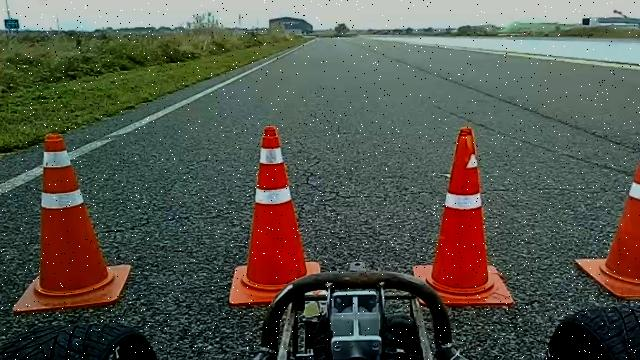red cone: (12, 132, 130, 314), (415, 126, 516, 307), (228, 125, 322, 307), (574, 127, 640, 300)
